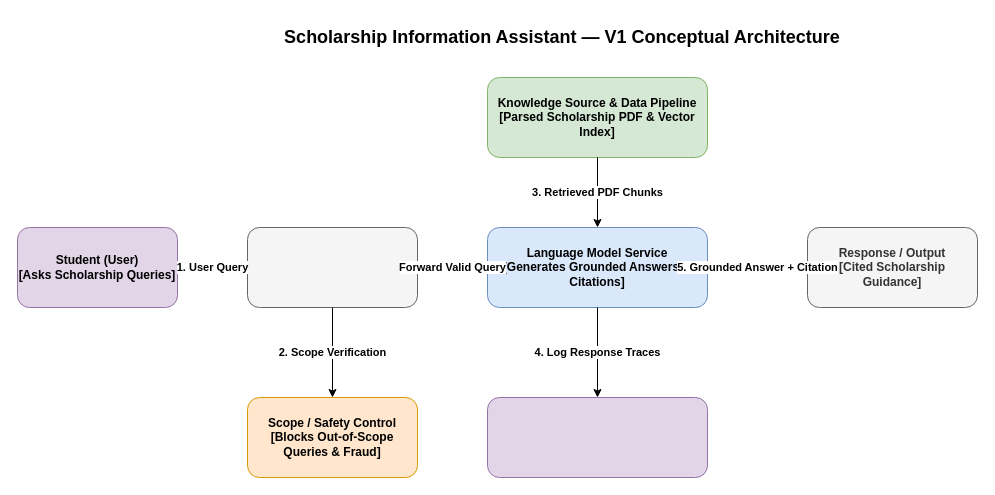
The diagram is 995 pixels wide and 495 high, and some of its shapes have lost their labels. The shapes that lost their labels are listed below. From the top down, each one's box as (x1, y1, x2, y2) in pixels, then its label:
(246, 226, 418, 308): Application Interface [Scholarship Web Portal]
(486, 396, 708, 478): Evaluation Point [Monitors Latency, Citation Match & Accuracy]
